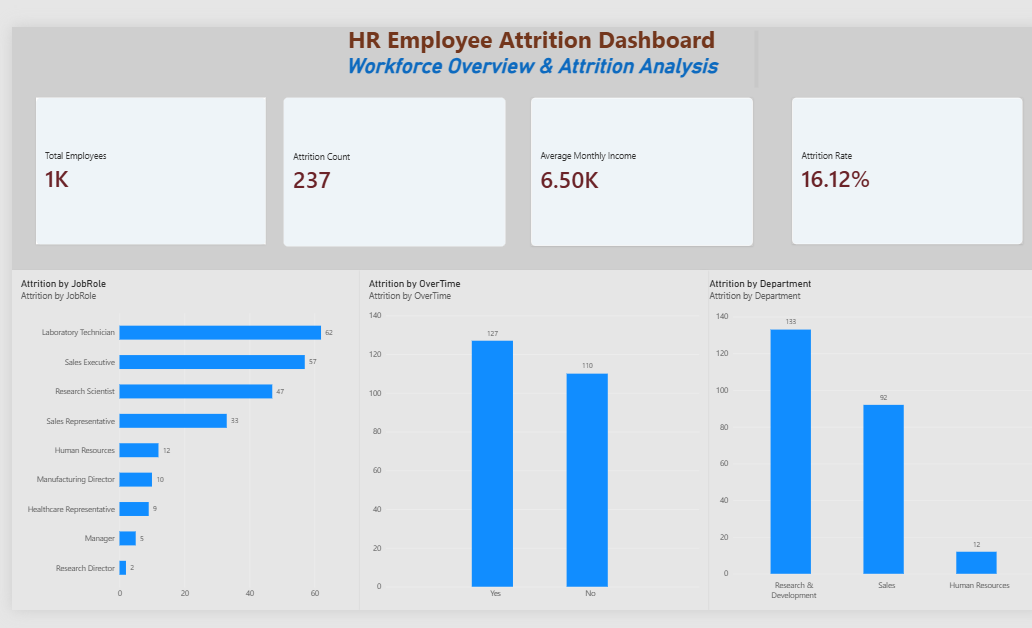

This screenshot's page, from the dashboard's own definition file:
{"tool":"powerbi","page":{"name":"Page 1","canvas":[1920,1080],"ordinal":0},"visuals":[{"type":"cardVisual","fields":{"Data":["Table1.Average Monthly Income"]},"box":[961.1,130.6,411.1,275],"z":0},{"type":"cardVisual","fields":{"Data":["Table1.Attrition Rate"]},"box":[1444.4,130.6,427.8,272.2],"z":1000},{"type":"cardVisual","fields":{"Data":["Table1.Attrition Count"]},"box":[503,129.3,411.1,275.8],"z":2000},{"type":"cardVisual","fields":{"Data":["Table1.Total Employees"]},"box":[44.4,130.6,425,272.2],"z":3000},{"type":"clusteredColumnChart","title":"Attrition by Department","fields":{"Category":["Table1.Department"],"Y":["Table1.Attrition Count"]},"box":[1275,450,644.4,630.6],"z":3001},{"type":"clusteredBarChart","title":"Attrition by JobRole","fields":{"Category":["Table1.JobRole"],"Y":["Table1.Attrition Count"]},"box":[0,450,644.4,630.6],"z":3002},{"type":"clusteredColumnChart","title":"Attrition  by OverTime","fields":{"Category":["Table1.OverTime"],"Y":["Table1.Attrition Count"]},"box":[644.4,450,644.4,630.6],"z":3003},{"type":"textbox","box":[548.8,0,832.7,112.1],"z":3004}]}

Visuals, with their boxes on the page's 1920x1080 design canvas (x1, y1, x2, y2). These are canvas units, not pixel positions in the 1032x628 screenshot, which may show the page scaled, cropped or inside an application window:
cardVisual - Table1.Average Monthly Income: BBox(961, 131, 1372, 406)
cardVisual - Table1.Attrition Rate: BBox(1444, 131, 1872, 403)
cardVisual - Table1.Attrition Count: BBox(503, 129, 914, 405)
cardVisual - Table1.Total Employees: BBox(44, 131, 469, 403)
"Attrition by Department" clusteredColumnChart: BBox(1275, 450, 1919, 1081)
"Attrition by JobRole" clusteredBarChart: BBox(0, 450, 644, 1081)
"Attrition  by OverTime" clusteredColumnChart: BBox(644, 450, 1289, 1081)
textbox: BBox(549, 0, 1382, 112)
